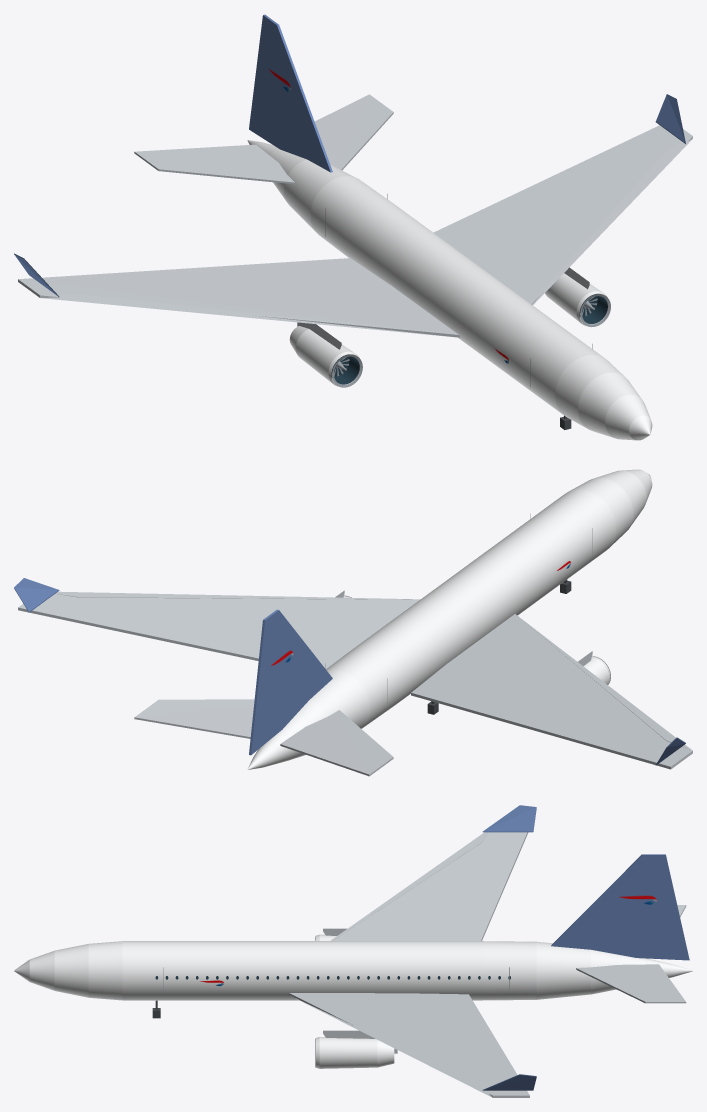
File: a330-BAW-v2.gltf
3 renders of one model, top to bottom at view 1: azimuth 30°, elevation 25°; view 2: azimuth 150°, elevation 25°; view 3: azimuth 270°, elevation 25°, orthographic. The views are drawn at different scales.
Visible parts, largest first — view 1: object 1; view 2: object 1; view 3: object 1.
Boxes of the visible parts, left/top/right/bottom form: object 1: left=14, top=14, right=692, bottom=440; object 1: left=14, top=469, right=692, bottom=776; object 1: left=14, top=805, right=692, bottom=1097.
Bounding box in the file's own units: 60 × 16.88 × 64.
7 materials, 1 textured.
